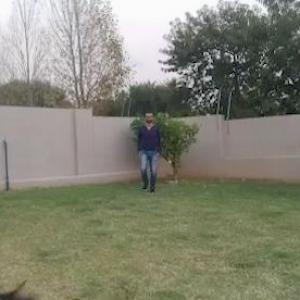follow: (138, 104, 162, 201)
